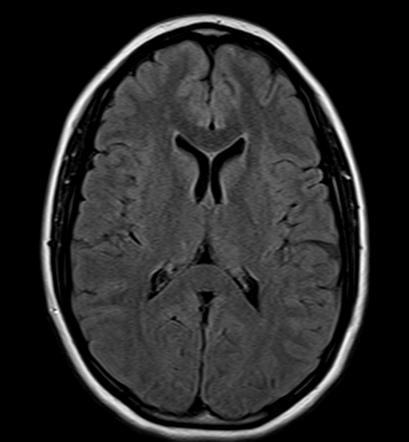Normal_Brain: (3, 8, 409, 442)
